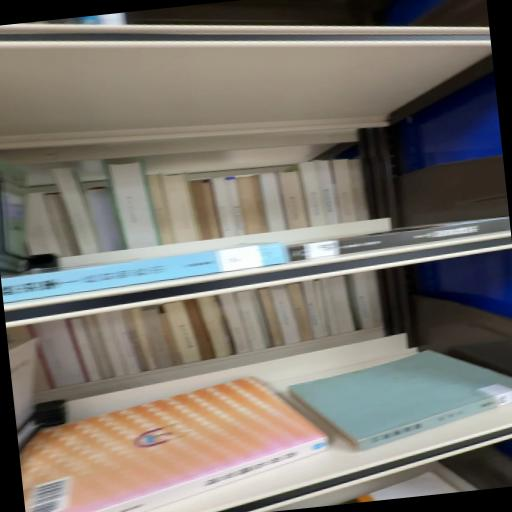flat: (21, 378, 330, 512), (290, 352, 512, 451), (2, 244, 292, 304), (289, 218, 511, 262)
